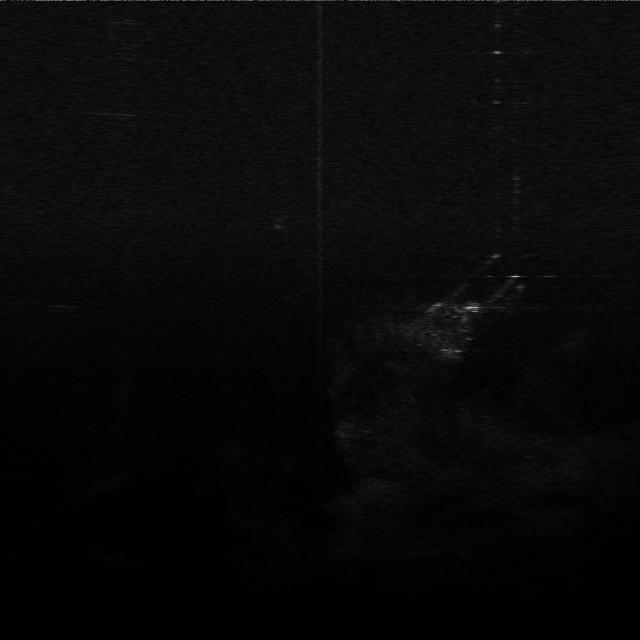rov: (458, 302, 488, 319)
